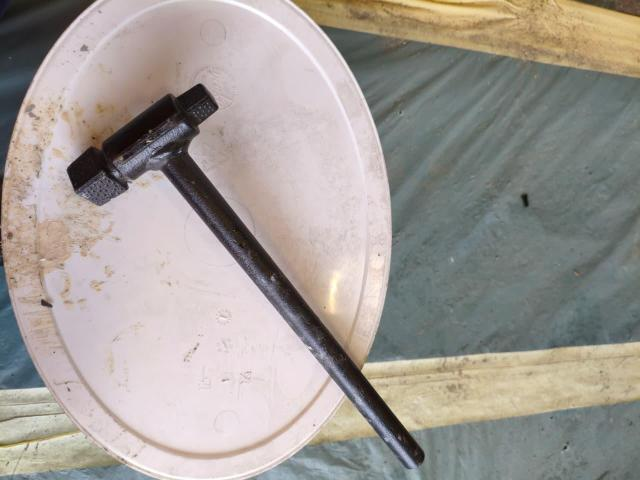Metal: (67, 84, 424, 467)
